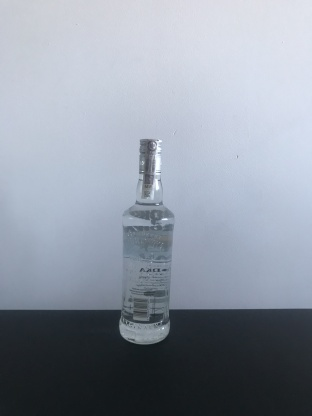nakretka: (136, 133, 163, 175)
